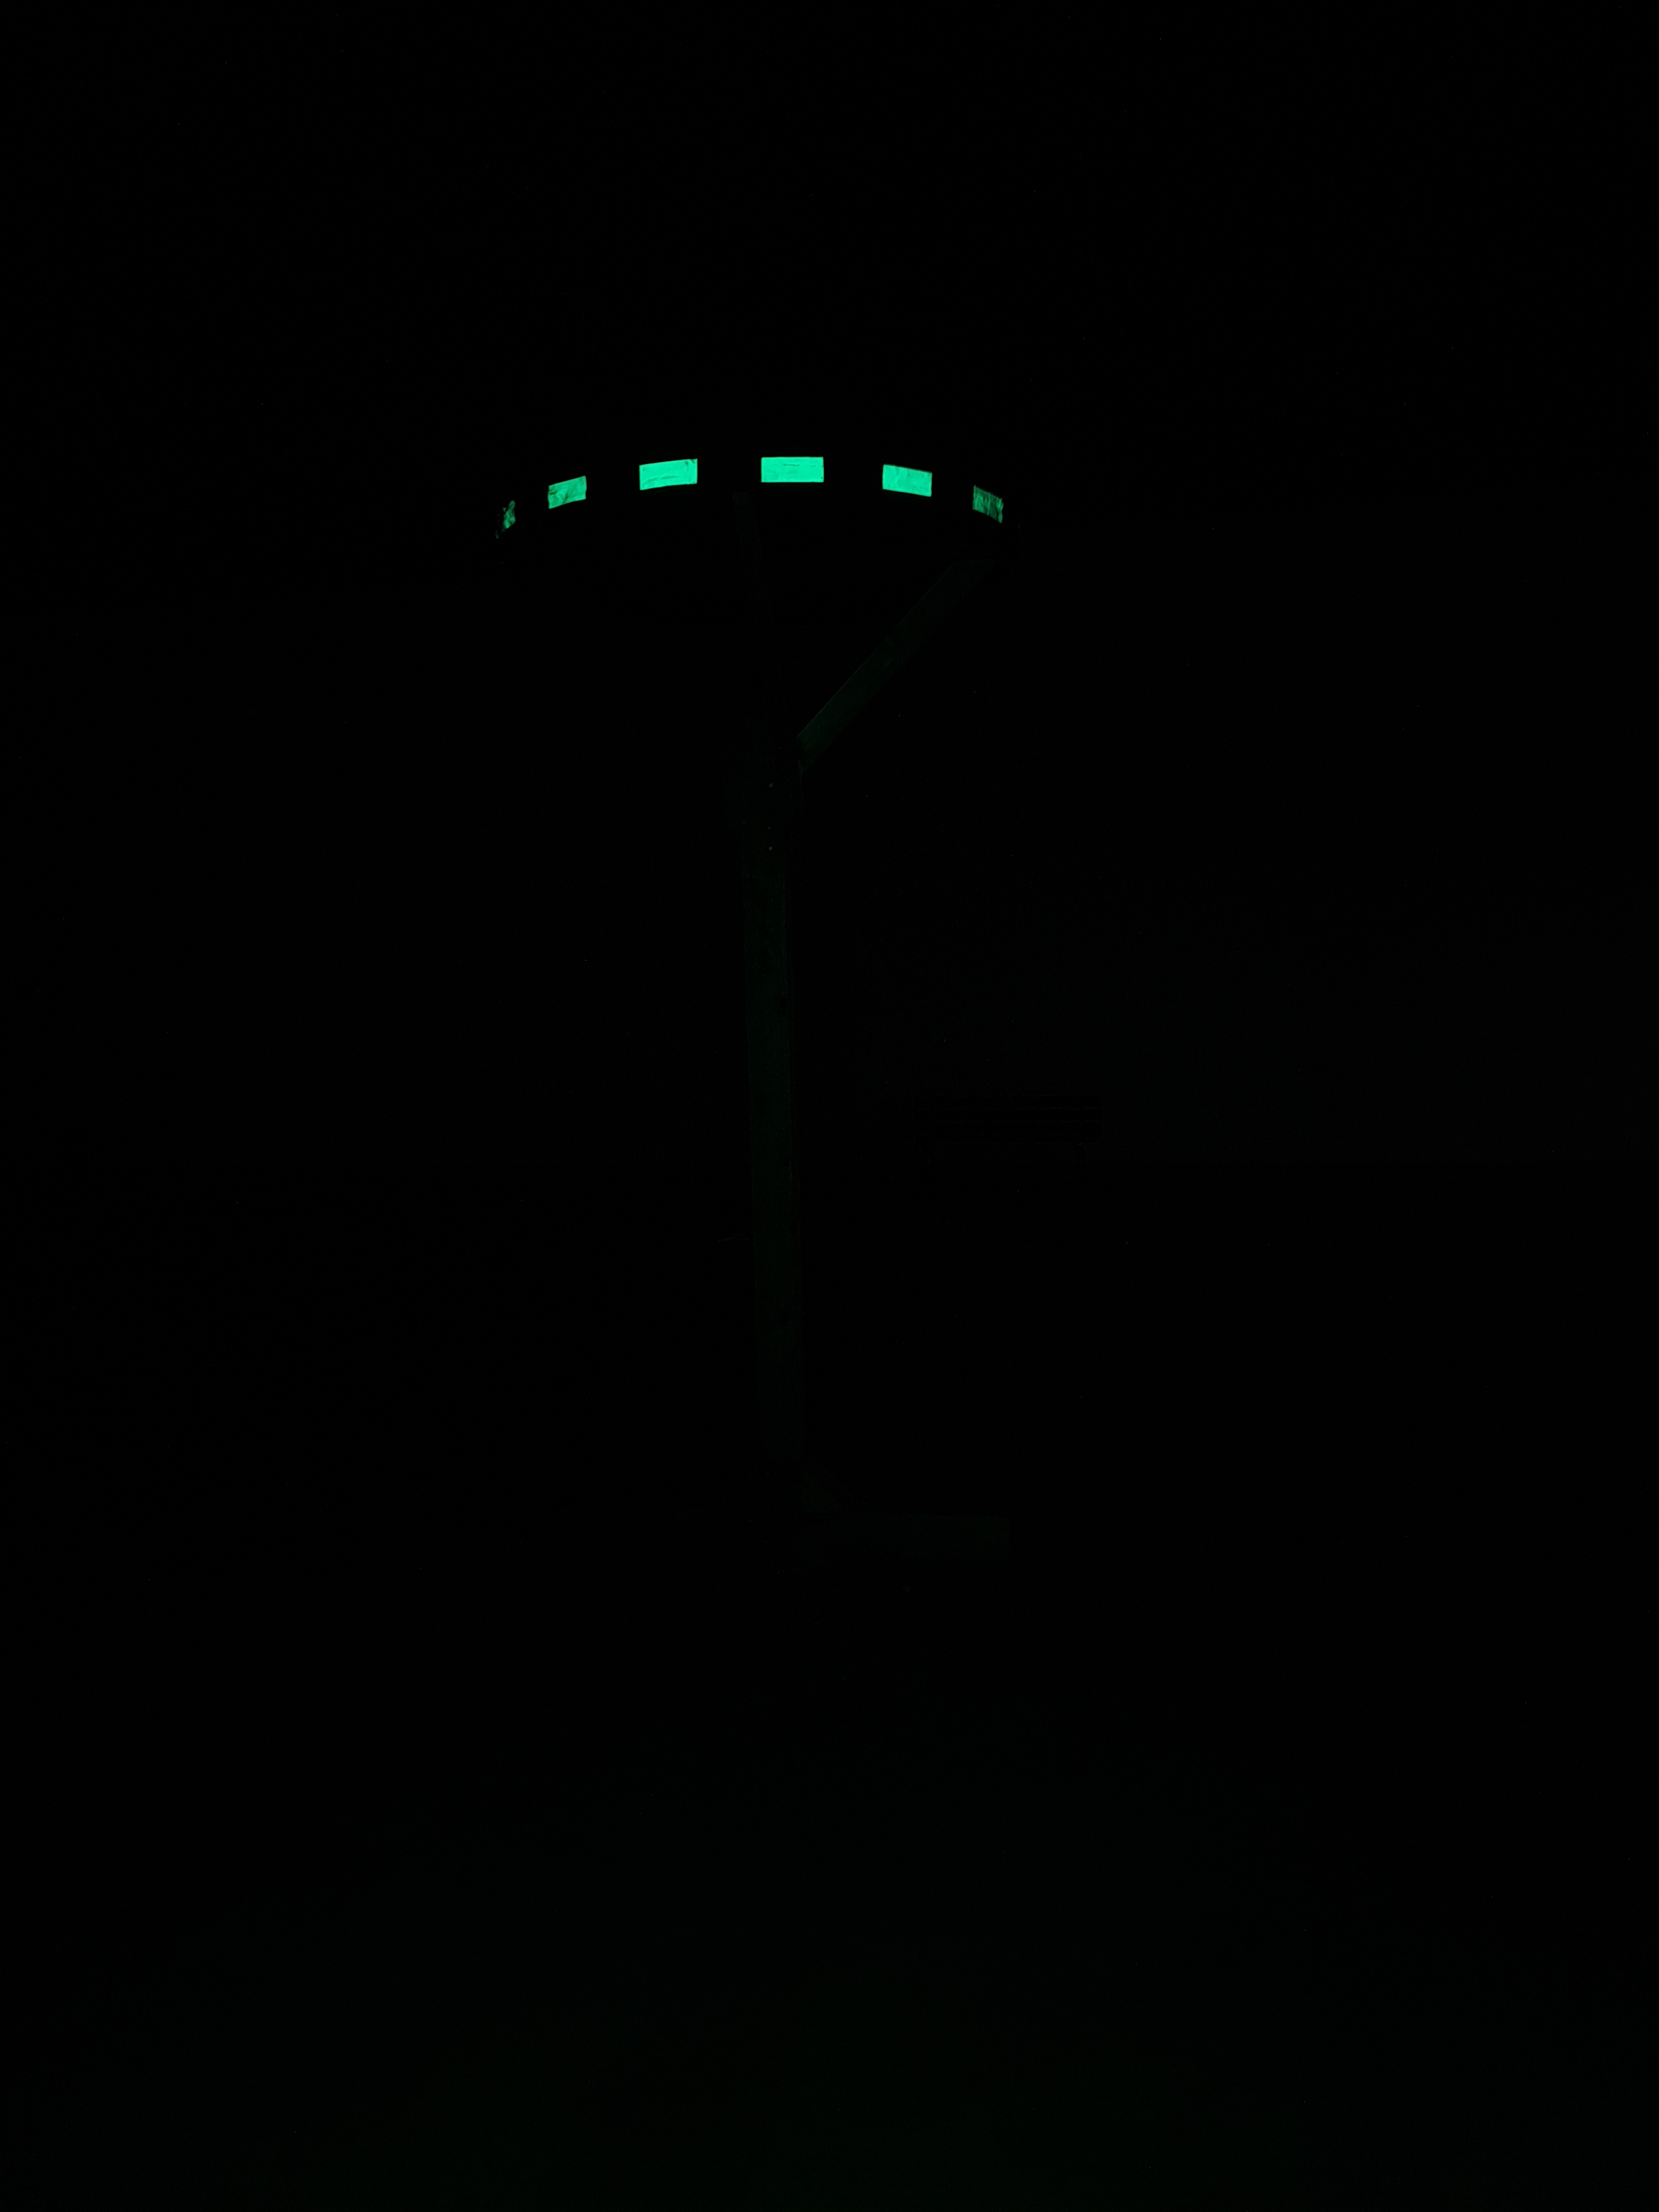hoop: (479, 446, 1016, 550)
